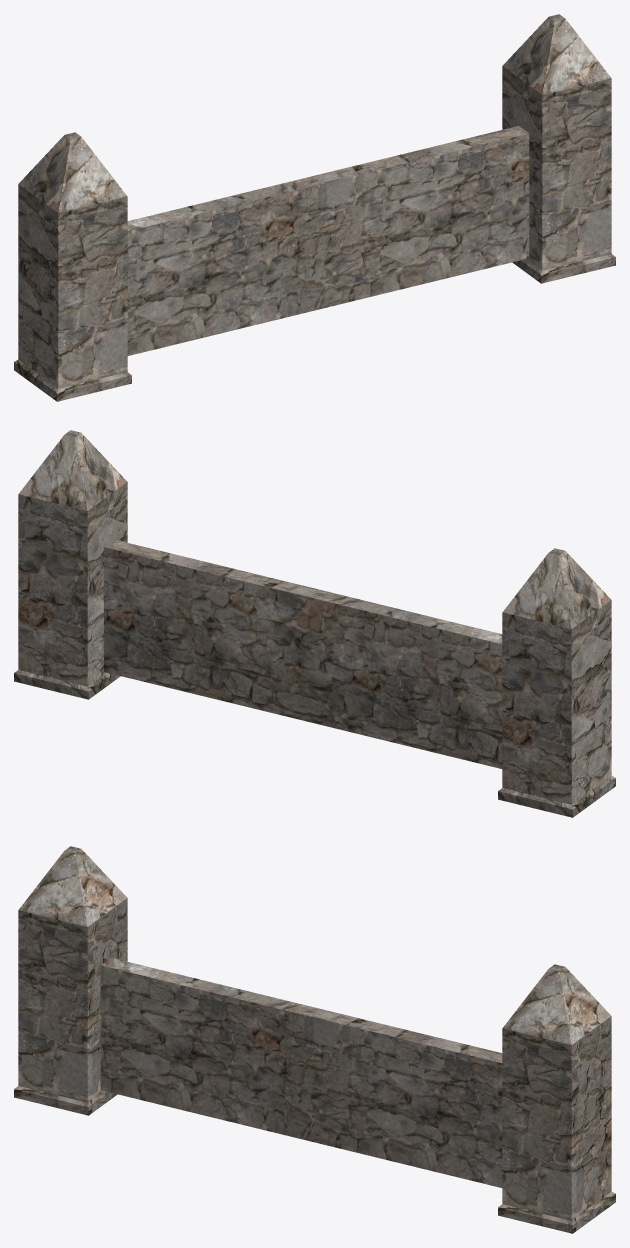
File: Muro.obj
3 renders of one model, top to bottom at view 1: azimuth 30°, elevation 25°; view 2: azimuth 150°, elevation 25°; view 3: azimuth 330°, elevation 25°, orthographic.
Visible parts, largest first — view 1: Wall_Cube_001, baseTwo_Cube_002, Cube; view 2: Wall_Cube_001, baseTwo_Cube_002, Cube; view 3: Wall_Cube_001, Cube, baseTwo_Cube_002.
Part boxes in pixels (x1,y1,x2,y2): Wall_Cube_001: [127, 126, 529, 355]; baseTwo_Cube_002: [14, 132, 131, 401]; Cube: [502, 14, 615, 283]; Wall_Cube_001: [104, 539, 502, 768]; baseTwo_Cube_002: [498, 548, 615, 817]; Cube: [14, 430, 127, 699]; Wall_Cube_001: [100, 958, 502, 1187]; Cube: [498, 964, 615, 1233]; baseTwo_Cube_002: [14, 846, 127, 1115].
Size of the model in its own units: 9.37 by 3.86 by 1.25.
1 material, 1 textured.
